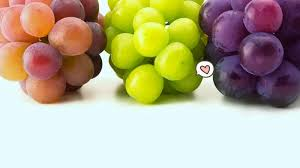anggur: (99, 1, 213, 108), (198, 1, 300, 115), (1, 1, 104, 113)
